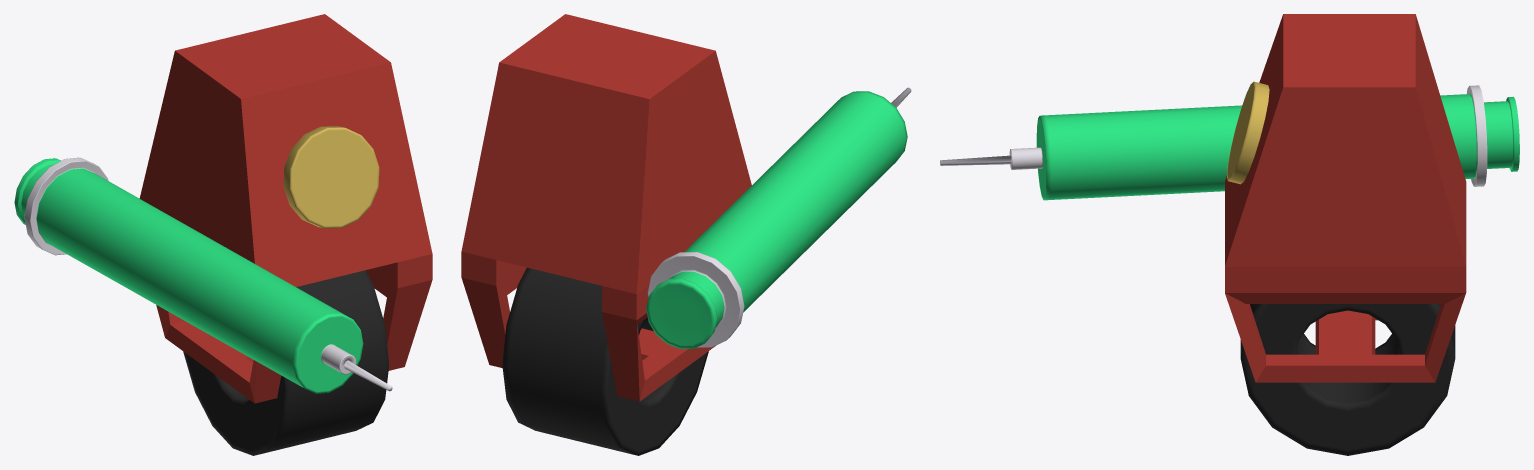
The model's file is EnemyCharge.gltf.
3 views of the same model, side by side, from view 1: azimuth 30°, elevation 25°; view 2: azimuth 150°, elevation 25°; view 3: azimuth 270°, elevation 25° (orthographic).
Visible parts, largest first — view 1: EnemyChargerBase, EnemyChargerNeedle, EnemyChargerWheel, EnemyChargerEye; view 2: EnemyChargerBase, EnemyChargerNeedle, EnemyChargerWheel; view 3: EnemyChargerBase, EnemyChargerNeedle, EnemyChargerWheel, EnemyChargerEye.
Part boxes in pixels (left/top/right/bottom): EnemyChargerBase: left=139, top=14, right=432, bottom=403; EnemyChargerNeedle: left=14, top=157, right=392, bottom=393; EnemyChargerWheel: left=183, top=270, right=389, bottom=455; EnemyChargerEye: left=283, top=126, right=379, bottom=228; EnemyChargerBase: left=461, top=14, right=751, bottom=401; EnemyChargerNeedle: left=646, top=87, right=911, bottom=348; EnemyChargerWheel: left=502, top=267, right=708, bottom=455; EnemyChargerBase: left=1225, top=14, right=1466, bottom=382; EnemyChargerNeedle: left=940, top=85, right=1519, bottom=200; EnemyChargerWheel: left=1240, top=304, right=1455, bottom=455; EnemyChargerEye: left=1227, top=81, right=1269, bottom=184.
Size of the model in its own units: 1.15 by 1.47 by 2.03.
